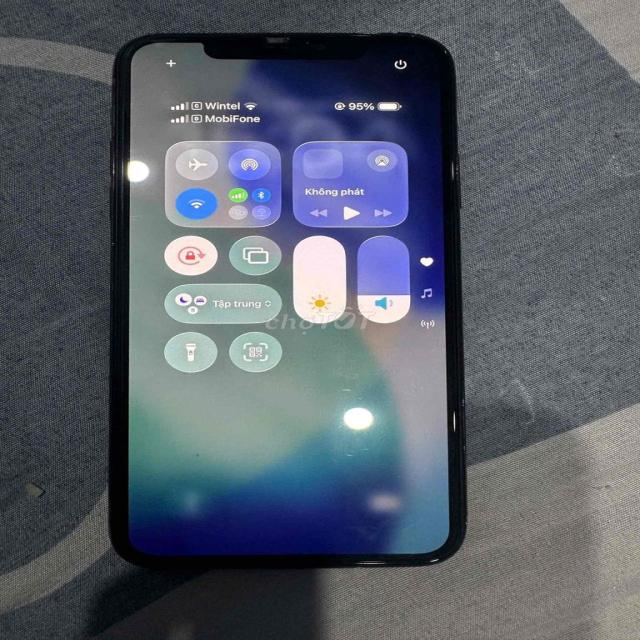gen_11: (103, 29, 466, 570)
